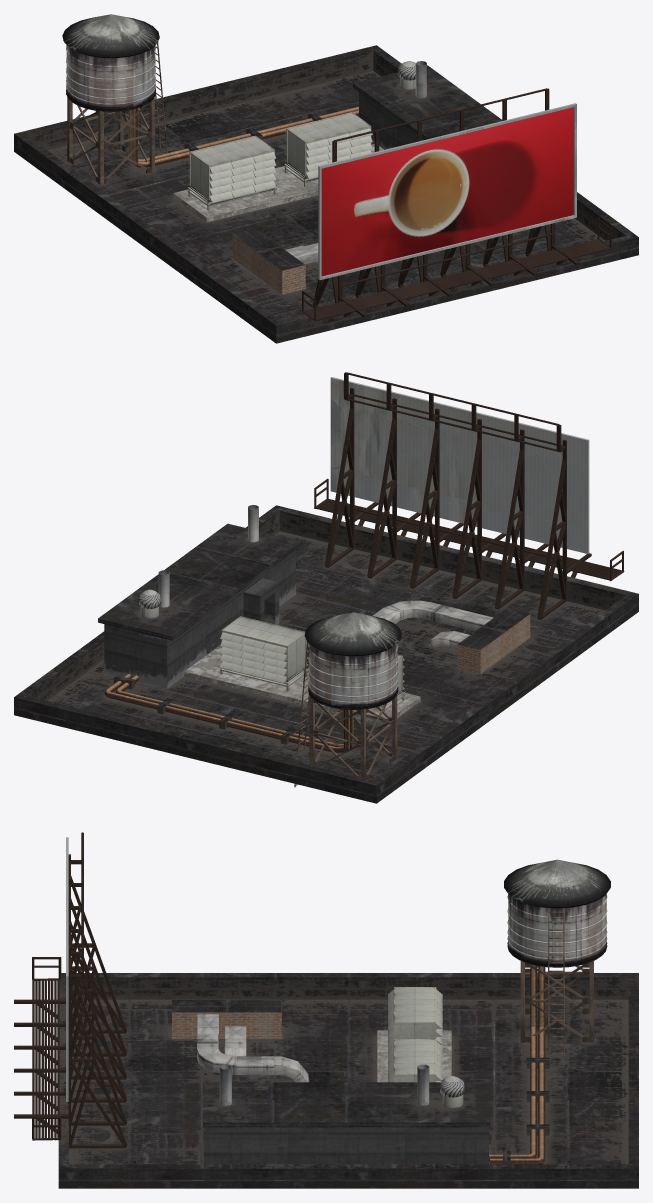
Rendered from roof07.fbx.
3 renders of one model, top to bottom at view 1: azimuth 30°, elevation 25°; view 2: azimuth 150°, elevation 25°; view 3: azimuth 270°, elevation 25°, orthographic. The views are drawn at different scales.
Visible parts, largest first — view 1: Object30, Plane65, Rectangle5236, Box163, Circle154, Spindle06, O05, Box165, Box1573, Object187, Object206, O06 (+12 smaller); view 2: Object30, O05, Box163, Object61, Rectangle5236, Circle154, Spindle06, Box165, polymsh16, Rectangle6651, Rectangle5235, Rectangle6653 (+12 smaller); view 3: Object30, Box163, Object61, Circle154, Rectangle5236, Spindle06, polymsh16, Rectangle6651, Object187, O06, Rectangle6652, Object319 (+16 smaller).
Part boxes in pixels (box(x1,y1,x2,y2)): Object30: box(14, 45, 638, 343); Plane65: box(321, 107, 573, 276); Rectangle5236: box(302, 88, 611, 321); Box163: box(353, 65, 502, 139); Circle154: box(66, 45, 155, 110); Spindle06: box(62, 14, 159, 58); O05: box(318, 103, 576, 280); Box165: box(173, 144, 383, 222); Box1573: box(188, 152, 276, 202); Object187: box(189, 135, 274, 201); Object206: box(286, 112, 371, 177); O06: box(232, 234, 305, 294); Object30: box(14, 505, 638, 803); O05: box(330, 377, 589, 553); Box163: box(98, 523, 302, 640); Object61: box(104, 551, 295, 688); Rectangle5236: box(314, 372, 624, 581); Circle154: box(309, 643, 397, 708); Spindle06: box(304, 612, 401, 656); Box165: box(184, 647, 420, 725); polymsh16: box(104, 674, 353, 752); Rectangle6651: box(324, 372, 378, 567); Rectangle5235: box(409, 394, 463, 588); Rectangle6653: box(494, 414, 548, 609); Object30: box(58, 973, 638, 1188); Box163: box(203, 1082, 489, 1127); Object61: box(203, 1127, 488, 1164); Circle154: box(508, 894, 606, 966); Rectangle5236: box(32, 832, 83, 1140); Spindle06: box(504, 859, 610, 908); polymsh16: box(489, 965, 545, 1164); Rectangle6651: box(14, 947, 126, 1148); Object187: box(394, 987, 436, 1038); O06: box(172, 1012, 281, 1038); Rectangle6652: box(14, 924, 126, 1125); Object319: box(197, 1034, 273, 1075).
Bounding box in the file's own units: 15.84 × 8.98 × 21.36.
